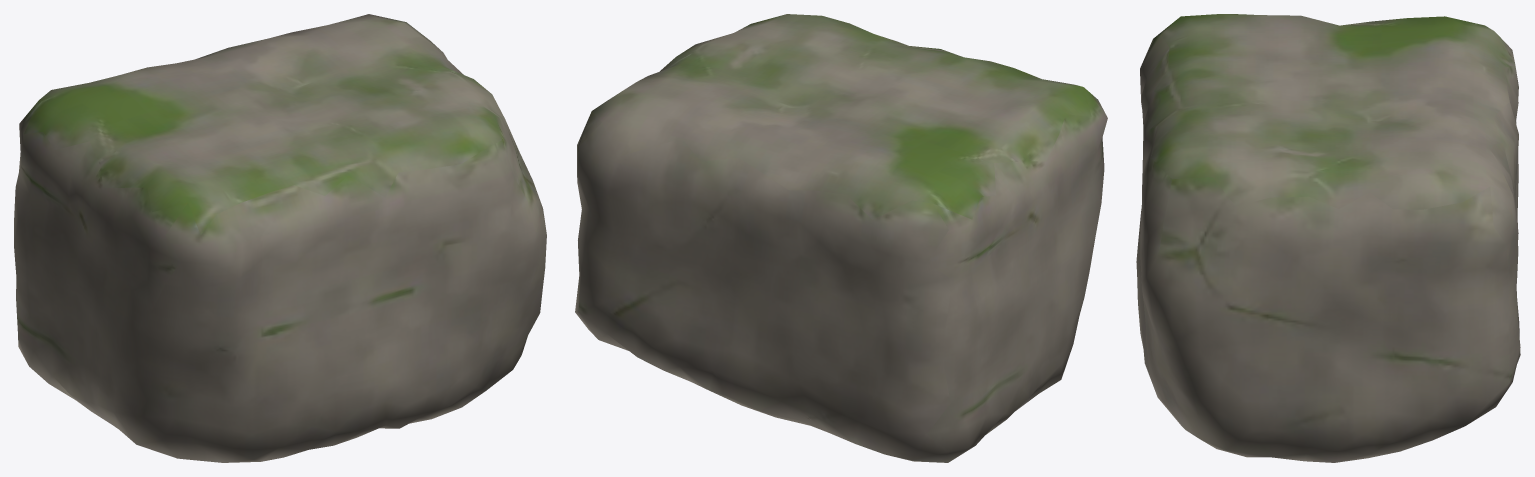
File: rock-boulder-a.glb
3 renders of one model, left to right at view 1: azimuth 30°, elevation 25°; view 2: azimuth 150°, elevation 25°; view 3: azimuth 270°, elevation 25°, orthographic. The views are drawn at different scales.
Parts seen in each view (by area): view 1: Rock_Boulder_A; view 2: Rock_Boulder_A; view 3: Rock_Boulder_A.
Part boxes in pixels (<box>): Rock_Boulder_A: <box>14,14,546,462</box>; Rock_Boulder_A: <box>575,14,1107,462</box>; Rock_Boulder_A: <box>1136,14,1520,462</box>.
Bounding box in the file's own units: 1.62 × 1.12 × 1.33.
Materials: 1 (1 with a texture image).
